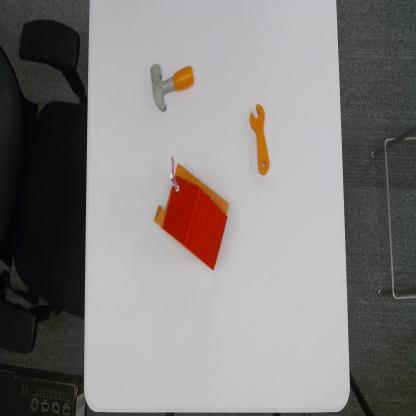Hammer: (149, 60, 196, 115)
House: (153, 154, 230, 274)
Screwdriver: (249, 102, 271, 178)
